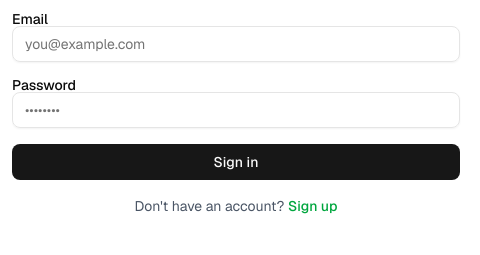
Test case: LoginForm › maps server field errors
In the field labelled "Email": [236, 44] box [12,26,460,62], type "user@example.com"
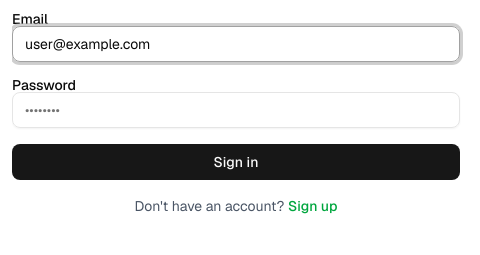
In the password field labelled "Password": [236, 110] box [12,92,460,128], type "Password123!"
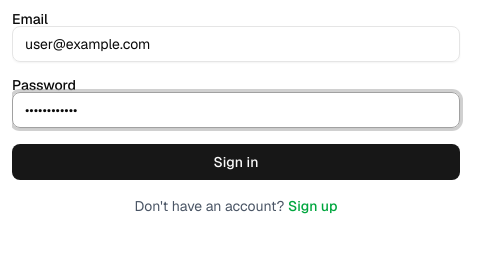
Click the button "Sign in": [236, 162] box [12,144,460,180]
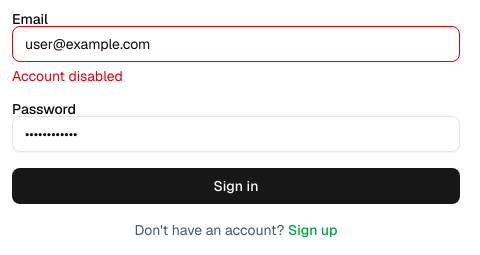
Expected: the text "Account disabled" is shown, [12,67,123,85]
